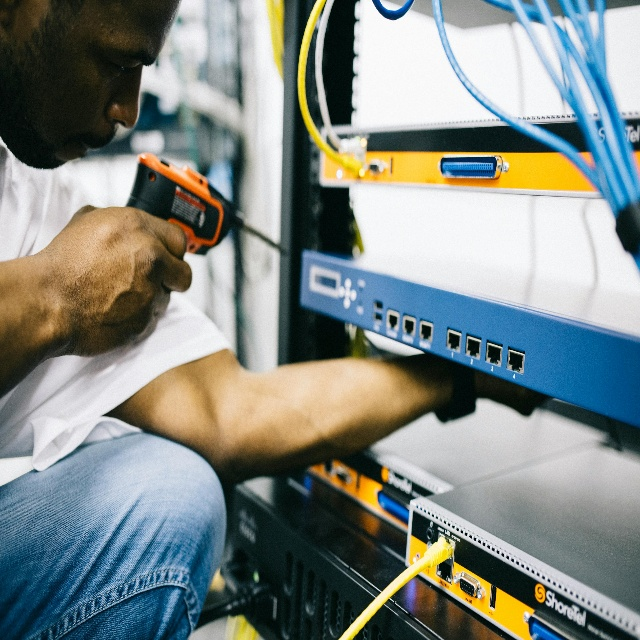Sin_guantes: (45, 204, 193, 360)
